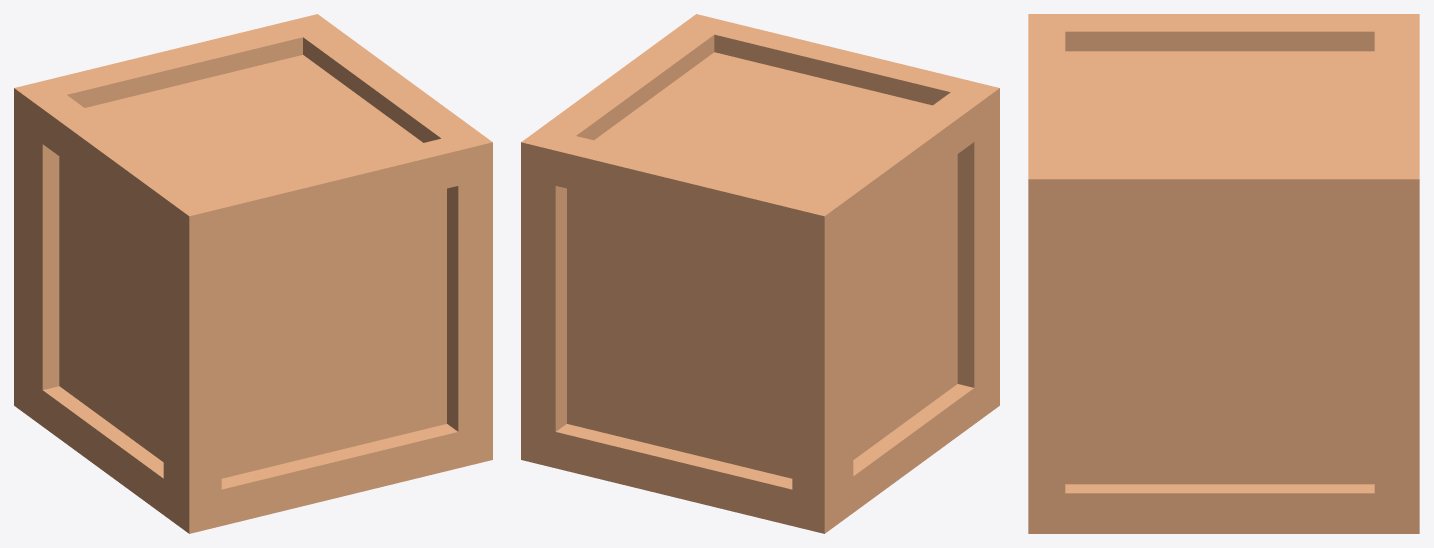
Rendered from Crate.fbx.
3 views of the same model, side by side, from view 1: azimuth 30°, elevation 25°; view 2: azimuth 150°, elevation 25°; view 3: azimuth 270°, elevation 25° (orthographic). The views are drawn at different scales.
Visible parts, largest first — view 1: Crate_244; view 2: Crate_244; view 3: Crate_244.
Part boxes in pixels (x1,y1,x2,y2): Crate_244: (14,14,492,533); Crate_244: (521,14,999,533); Crate_244: (1028,14,1419,533).
Size of the model in its own units: 0.3037 by 0.3037 by 0.3037.
